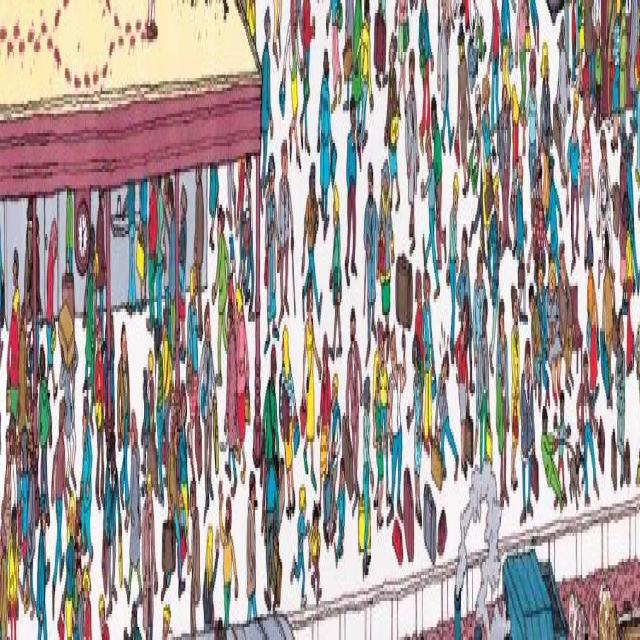waldo: (536, 156, 542, 201)
